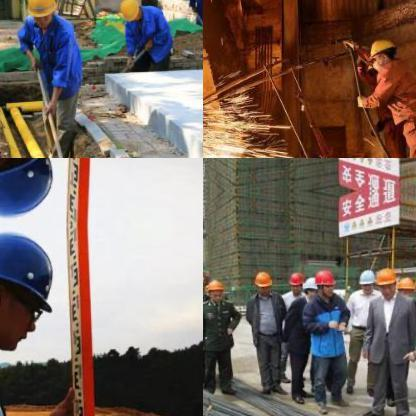Helmet: (0, 227, 64, 357), (0, 158, 65, 220), (366, 32, 400, 74), (24, 0, 56, 25), (311, 268, 335, 298), (396, 271, 415, 306), (376, 264, 396, 294), (252, 266, 272, 294), (302, 274, 320, 302), (114, 0, 139, 20), (356, 266, 374, 292), (204, 276, 223, 300), (286, 269, 304, 293)
